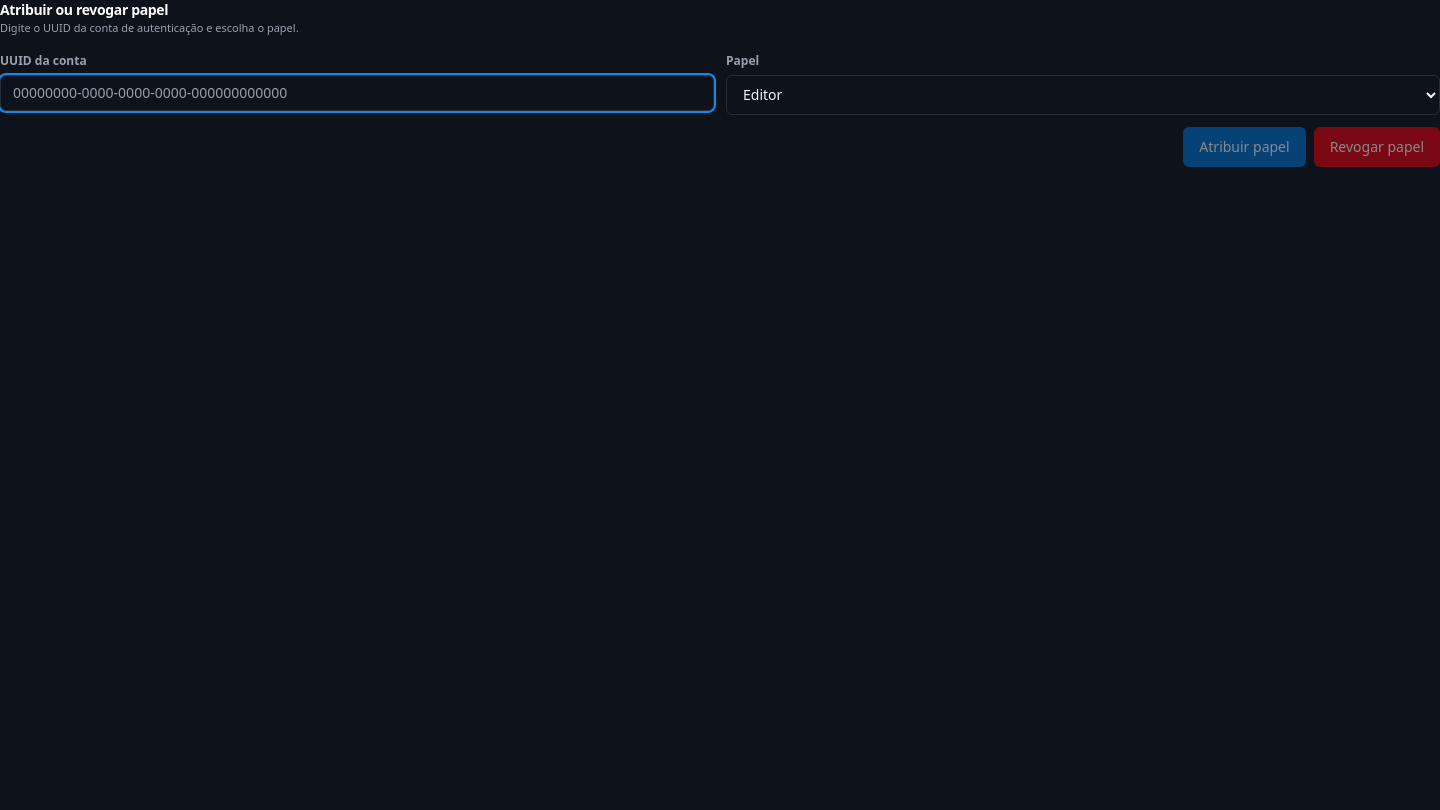
Test: Confirmação operacional › erro da API é anunciado no diálogo sem informar sucesso nem atualizar tabela
The image size is (1440, 810).
Type " ABCDEFAB-1234-1234-1234-ABCDEFABCDEF " into the field labelled "UUID da conta" at (357, 92), box [0,74,714,110]
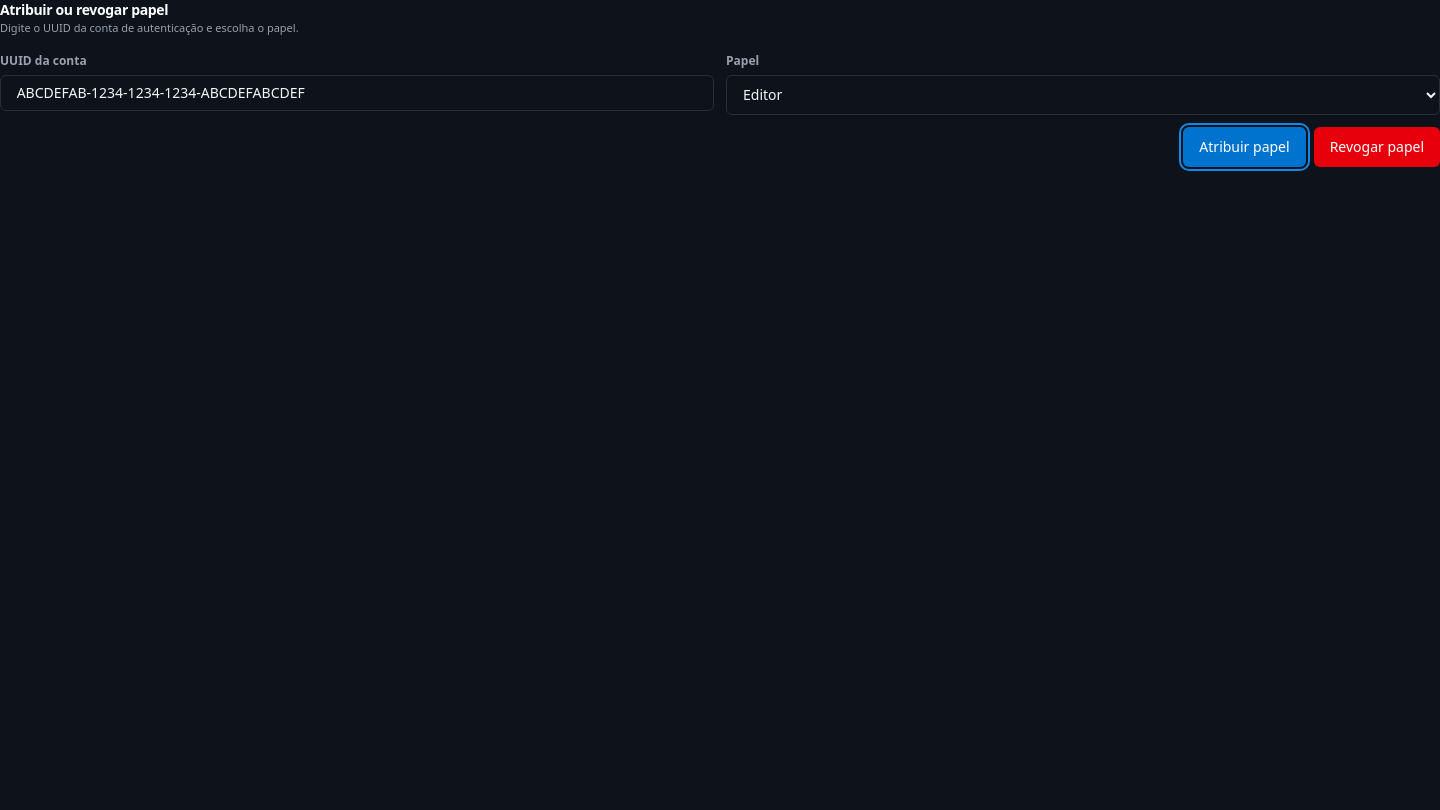
Click the button "Atribuir papel" at (1244, 146), box [1183,126,1306,166]
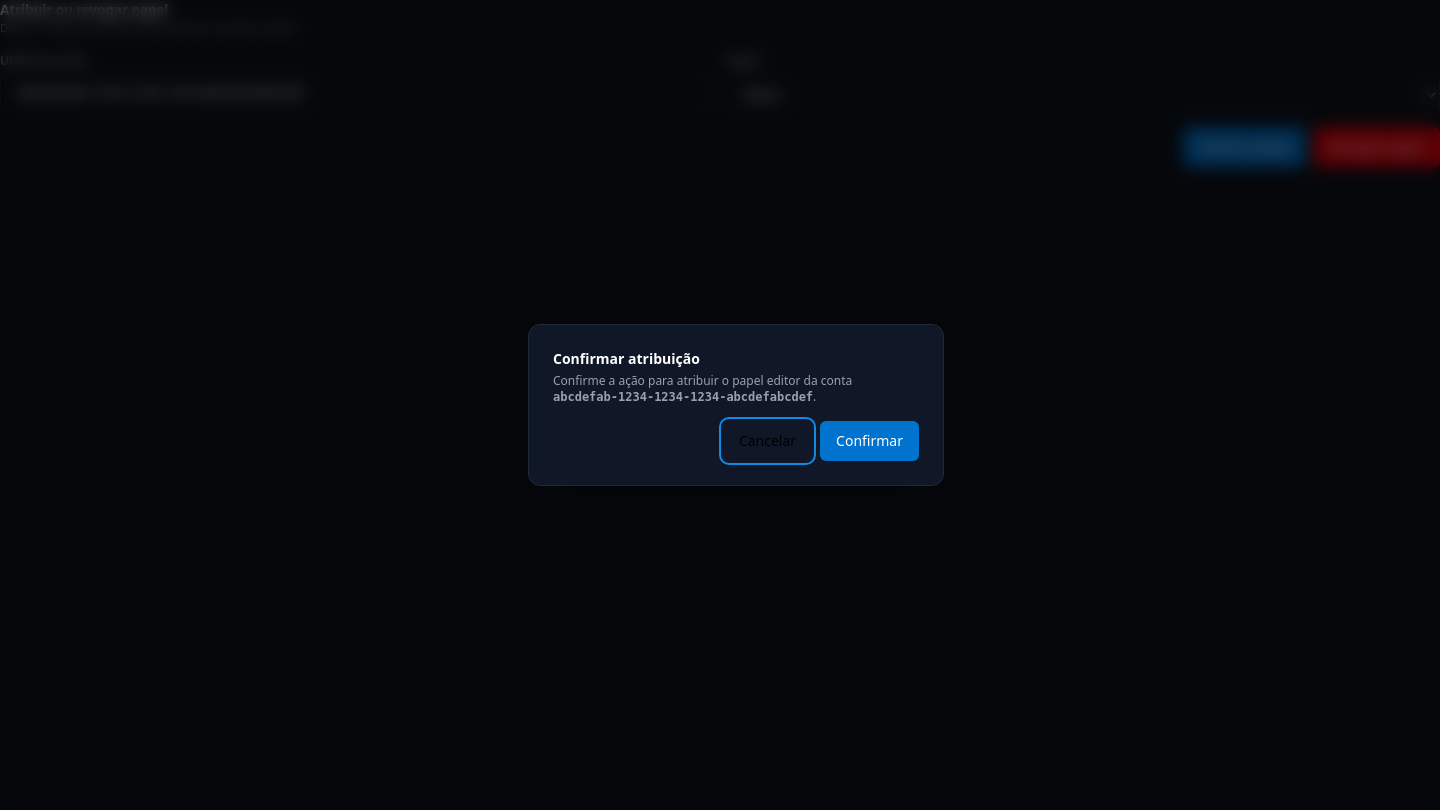
Click the button "Confirmar" at (870, 441), box [820,421,919,461]
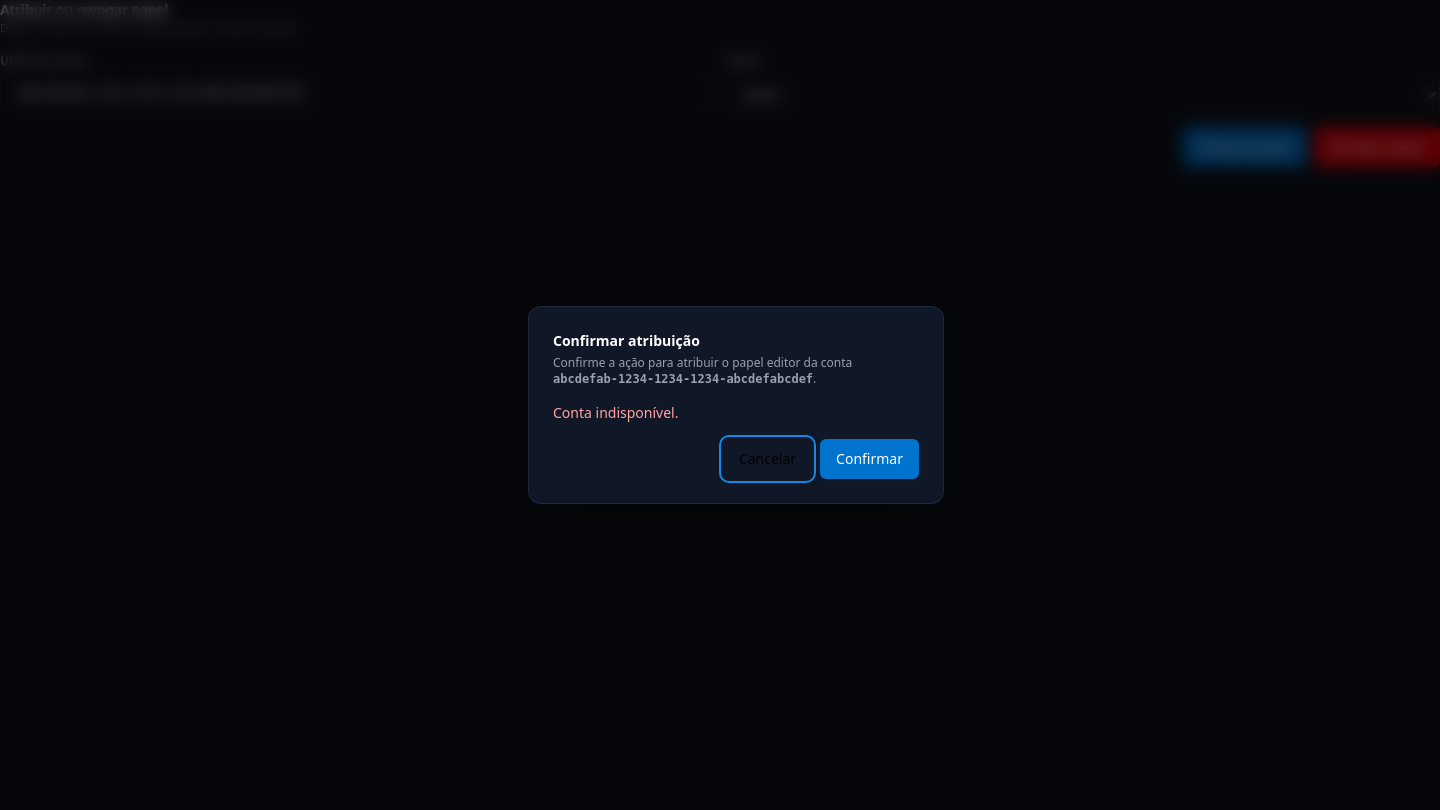
Check: the dialog is shown, box [496,290,944,520]
Check: the message reads "Conta indisponível.", box [553,403,678,422]
